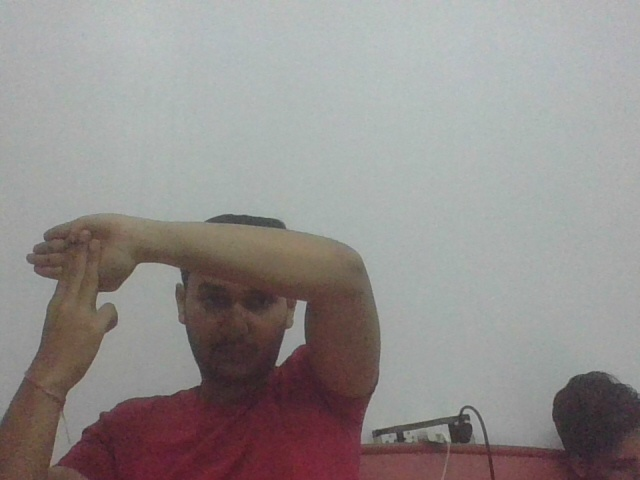M: (24, 209, 136, 370)
